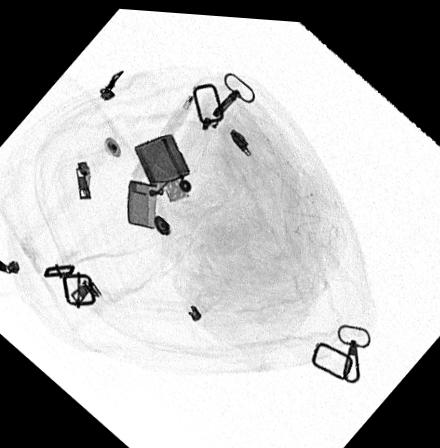Lighter: (125, 129, 193, 228)
